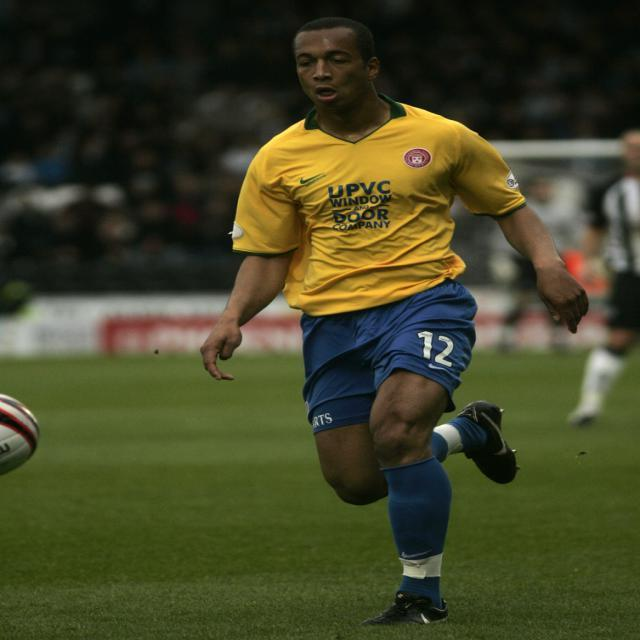ball: (0, 394, 40, 477)
